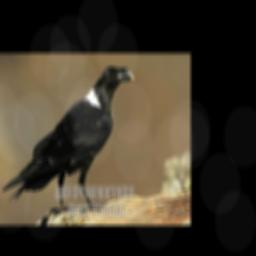Crow: (2, 66, 135, 218)
